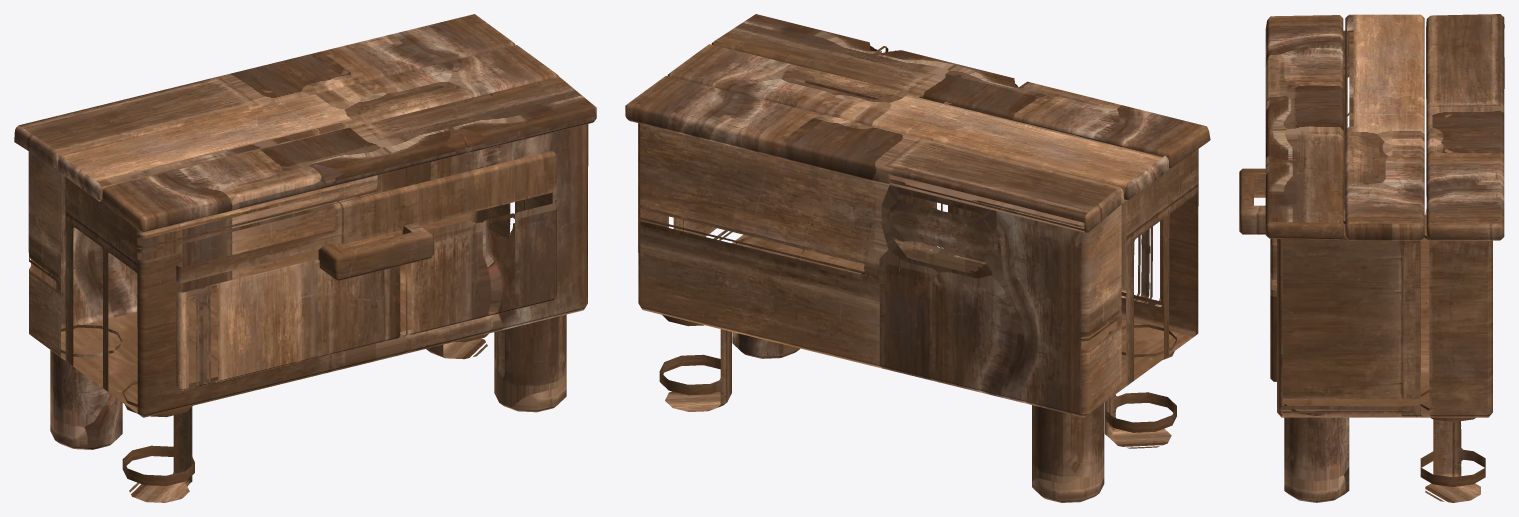
3 renders of one model, left to right at view 1: azimuth 30°, elevation 25°; view 2: azimuth 150°, elevation 25°; view 3: azimuth 270°, elevation 25°, orthographic. The views are drawn at different scales.
Visible parts, largest first — view 1: SM_Drawers_01v2_LOD0; view 2: SM_Drawers_01v2_LOD0; view 3: SM_Drawers_01v2_LOD0.
Boxes of the visible parts, x1,y1,x2,y2 form: SM_Drawers_01v2_LOD0: [14, 14, 596, 502]; SM_Drawers_01v2_LOD0: [625, 14, 1210, 502]; SM_Drawers_01v2_LOD0: [1239, 14, 1504, 502].
Size of the model in its own units: 1.31 by 0.8172 by 0.6868.
